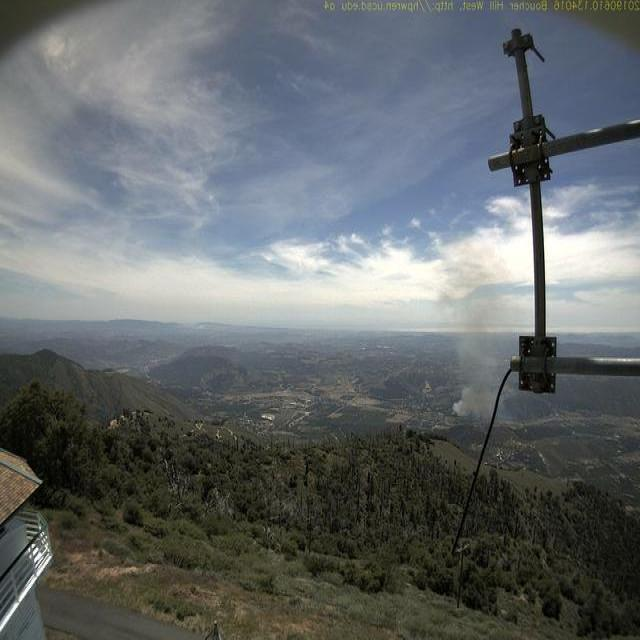Smoke: (447, 237, 515, 420)
